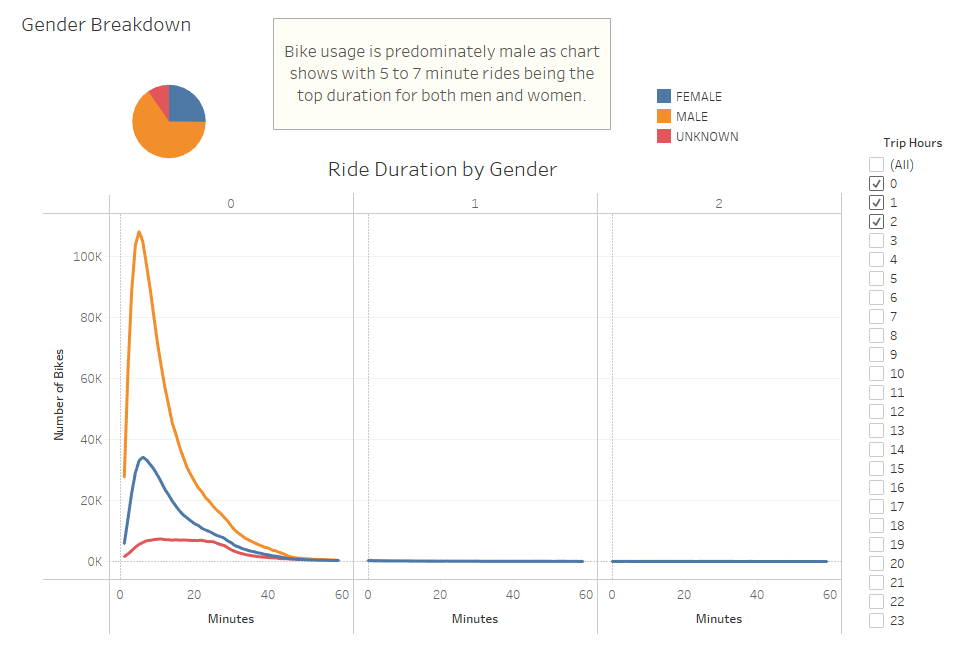

The page's visual inventory and layout, read from the dashboard file:
{"tool":"tableau","page":{"name":"Dashboard 6","canvas":[1000,800],"ordinal":3},"visuals":[{"type":"legend","title":"Ride Duration by Gender","param":"[federated.0sx5glx0vfjmuz1dkcllk0mkpj9r].[none:Calculation_1399212164086235136:n","box":[634,89,140,60]},{"type":"filter","title":"Ride Duration by Gender","param":"[federated.0sx5glx0vfjmuz1dkcllk0mkpj9r].[hr:new_tripduration:ok]","box":[843,137,100,507]},{"type":"worksheet","title":"Ride Duration by Gender","mark":"Automatic","rows":["201908_citibike_NYC_tripdata_updated.csv_4DF2055BB99D49B28D0"],"cols":["new_tripduration","new_tripduration"],"box":[23,153,799,485]}]}

Visuals, with their boxes on the page's 1000x800 design canvas (x1, y1, x2, y2). These are canvas units, not pixel positions in the 968x654 screenshot, which may show the page scaled, cropped or inside an application window:
"Ride Duration by Gender" legend: (x1=634, y1=89, x2=774, y2=149)
"Ride Duration by Gender" filter: (x1=843, y1=137, x2=943, y2=644)
"Ride Duration by Gender" worksheet: (x1=23, y1=153, x2=822, y2=638)
